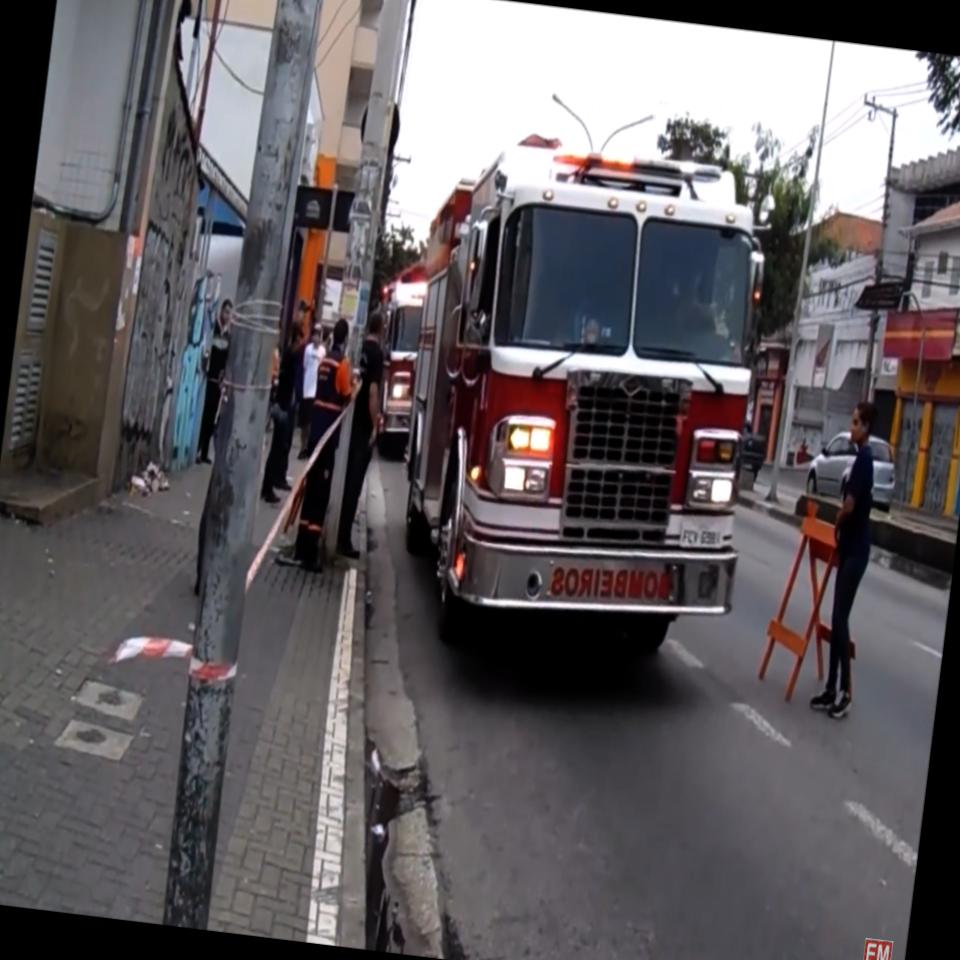viatura: (379, 119, 803, 687)
